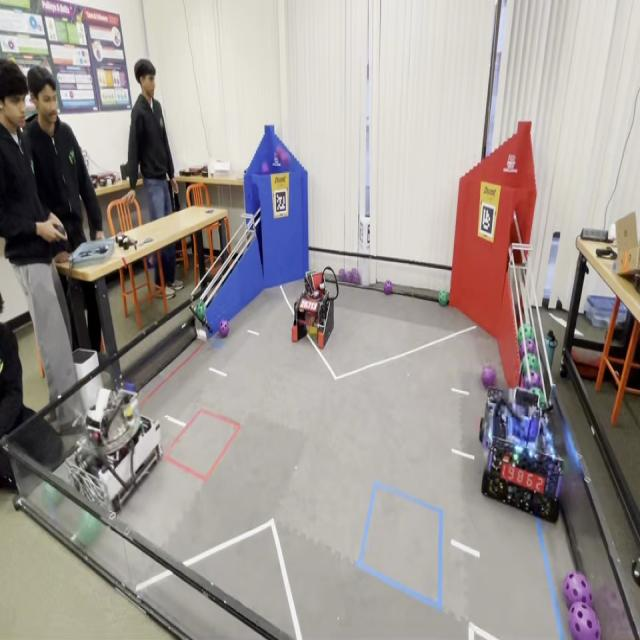artifact_green: (76, 511, 104, 546), (42, 484, 63, 509), (518, 324, 535, 346), (522, 354, 540, 373), (524, 371, 542, 389), (530, 388, 546, 408), (219, 319, 230, 339), (196, 300, 205, 322), (350, 268, 361, 285), (439, 291, 449, 306), (338, 268, 347, 282), (0, 360, 3, 373)
artifact_purple: (594, 586, 633, 639), (569, 603, 601, 639), (563, 572, 593, 607), (594, 586, 624, 615), (520, 338, 537, 360), (481, 366, 496, 388), (524, 371, 542, 389), (219, 320, 229, 337), (281, 150, 290, 168), (351, 268, 361, 284), (384, 280, 393, 295), (276, 145, 283, 162), (338, 268, 346, 282), (262, 161, 270, 174), (354, 272, 361, 285), (346, 271, 353, 283)
